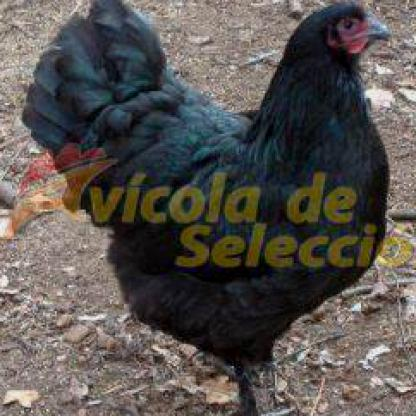chicken: (19, 0, 398, 415)
